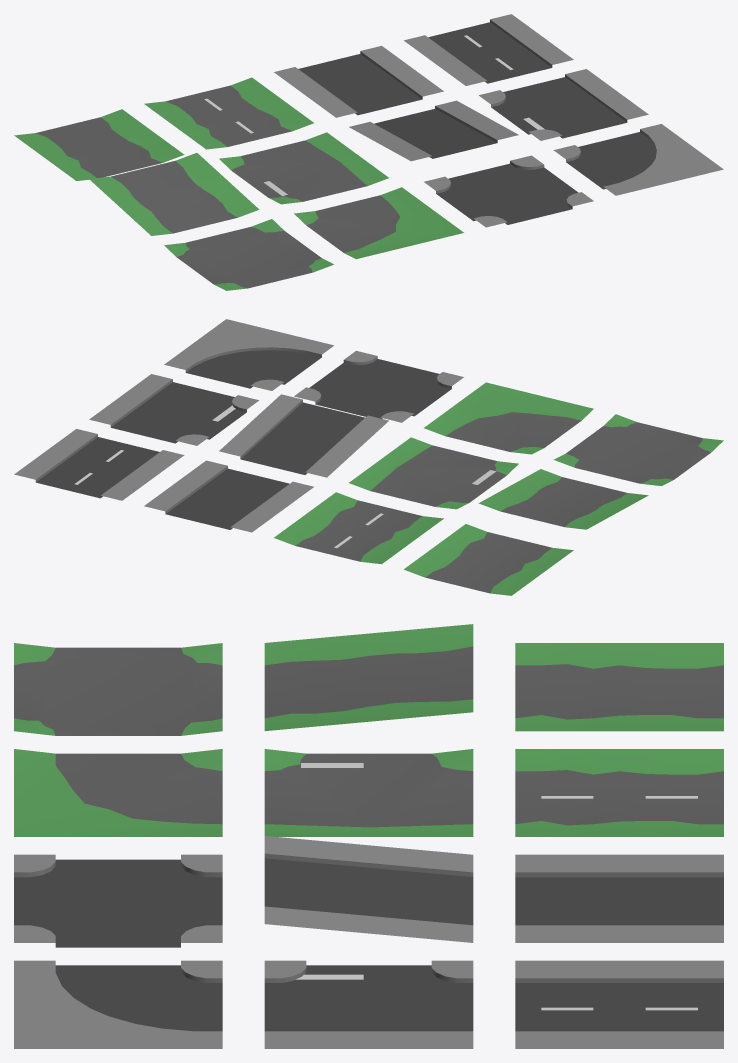
The model's file is pack_-_modular_low_poly___-___12_model___-.glb.
3 renders of one model, top to bottom at view 1: azimuth 30°, elevation 25°; view 2: azimuth 150°, elevation 25°; view 3: azimuth 270°, elevation 25°, orthographic. The views are drawn at different scales.
Visible parts, largest first — view 1: Object_2; view 2: Object_2; view 3: Object_2.
Boxes of the visible parts, x1=… form: Object_2: x1=14, y1=14, x2=723, y2=290; Object_2: x1=14, y1=319, x2=723, y2=595; Object_2: x1=14, y1=624, x2=723, y2=1048.
Bounding box in the file's own units: 46 × 1.25 × 34.
Materials: 1 (1 with a texture image).
